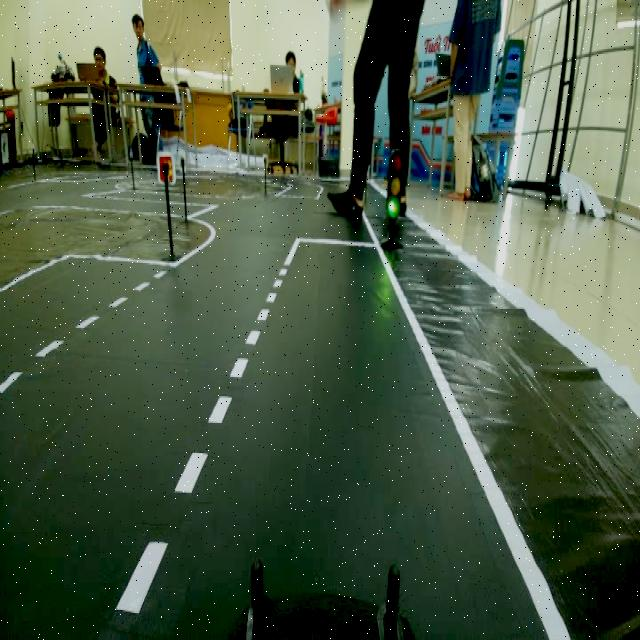trafficlight: (375, 144, 405, 257)
